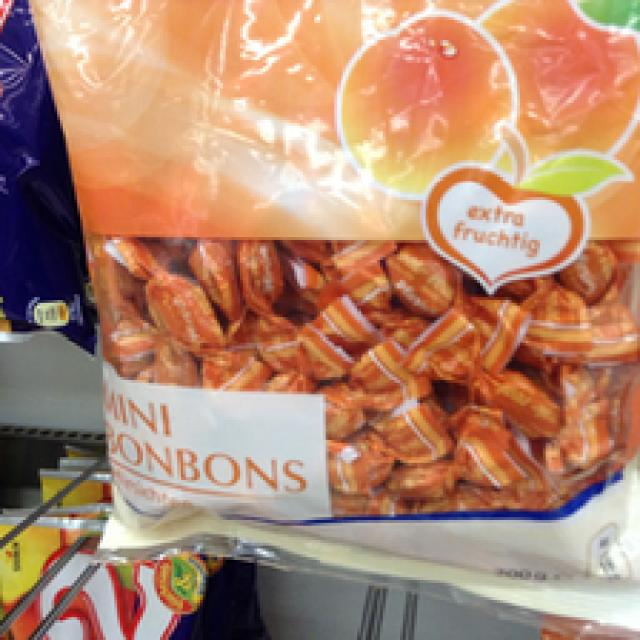groceries: (51, 6, 634, 563)
